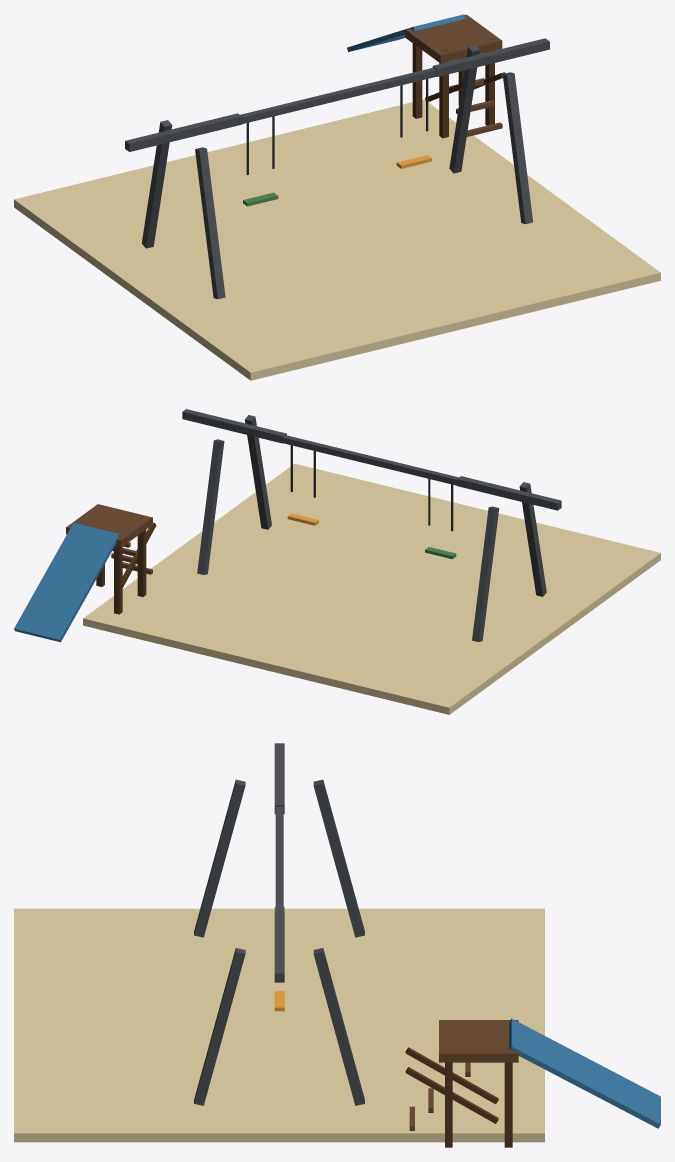
The model's file is prop.playground-set.glb.
The picture shows the model from 3 angles, top to bottom: view 1: azimuth 30°, elevation 25°; view 2: azimuth 150°, elevation 25°; view 3: azimuth 270°, elevation 25°; orthographic projection. The views are drawn at different scales.
Parts seen in each view (by area): view 1: prop.playground-set; view 2: prop.playground-set; view 3: prop.playground-set.
Part boxes in pixels (x1,y1,x2,y2): prop.playground-set: (14,14,660,380); prop.playground-set: (14,409,660,714); prop.playground-set: (14,743,660,1147).
Bounding box in the file's own units: 8.7 × 2.85 × 9.75.
